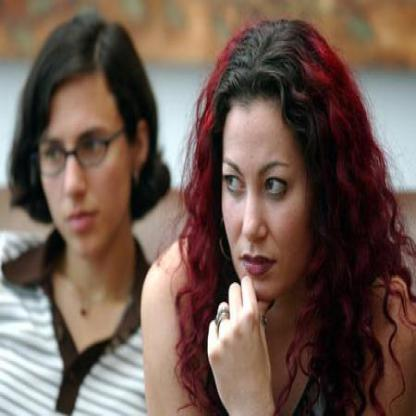face: (219, 59, 326, 303), (39, 48, 134, 259)
